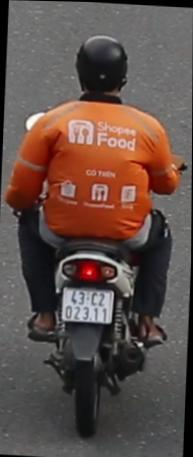LP: (58, 280, 118, 326)
helmet: (69, 29, 133, 108)
